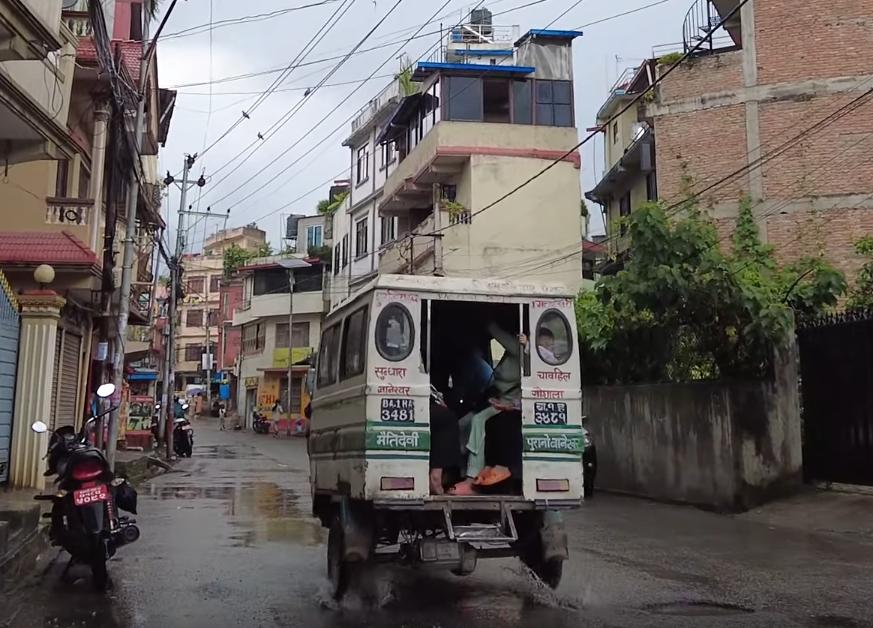bike: (28, 380, 144, 590)
tempo: (299, 272, 595, 611)
